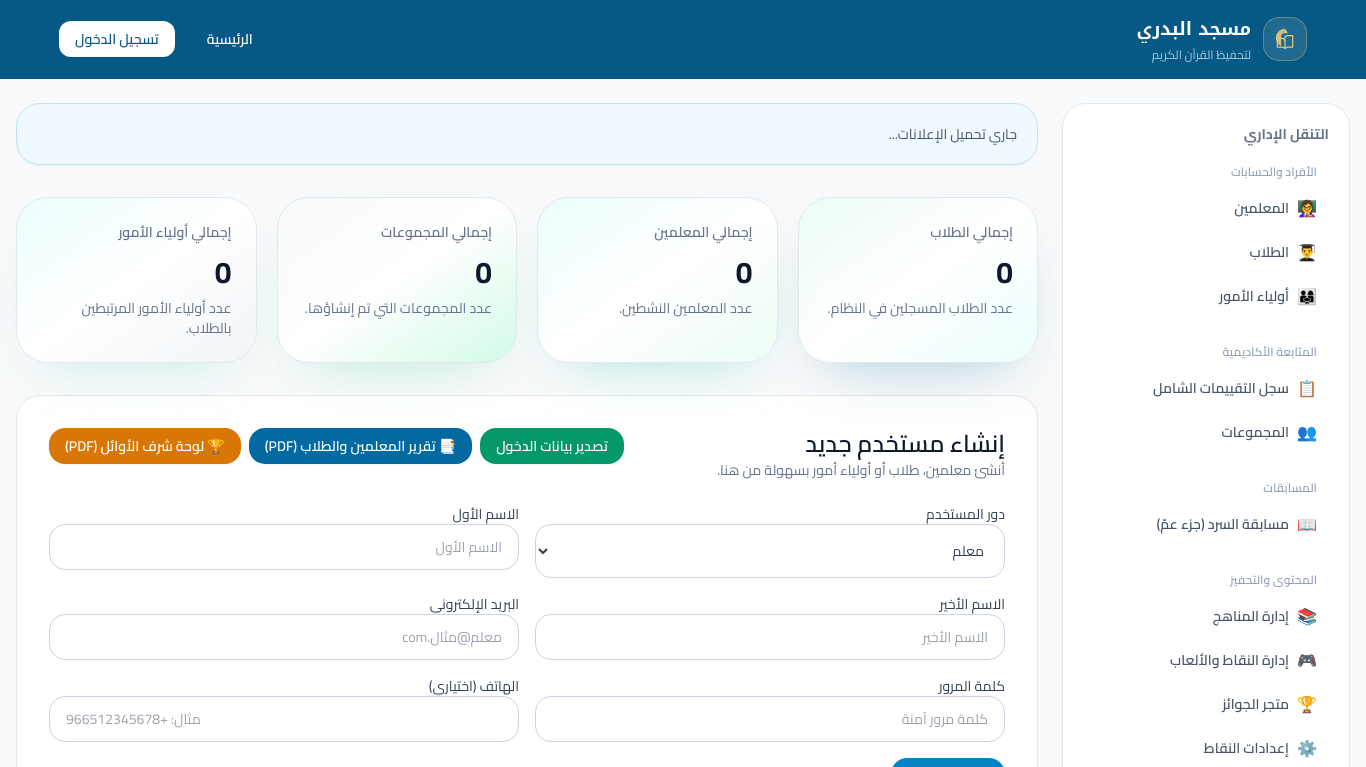
Test: searches reception contestants instantly and assigns a teacher in one selection
Click the button "📖 مسابقة السرد (جزء عمّ)". click: (1206,524)
box: [1083,504,1329,544]
(page scrolled)
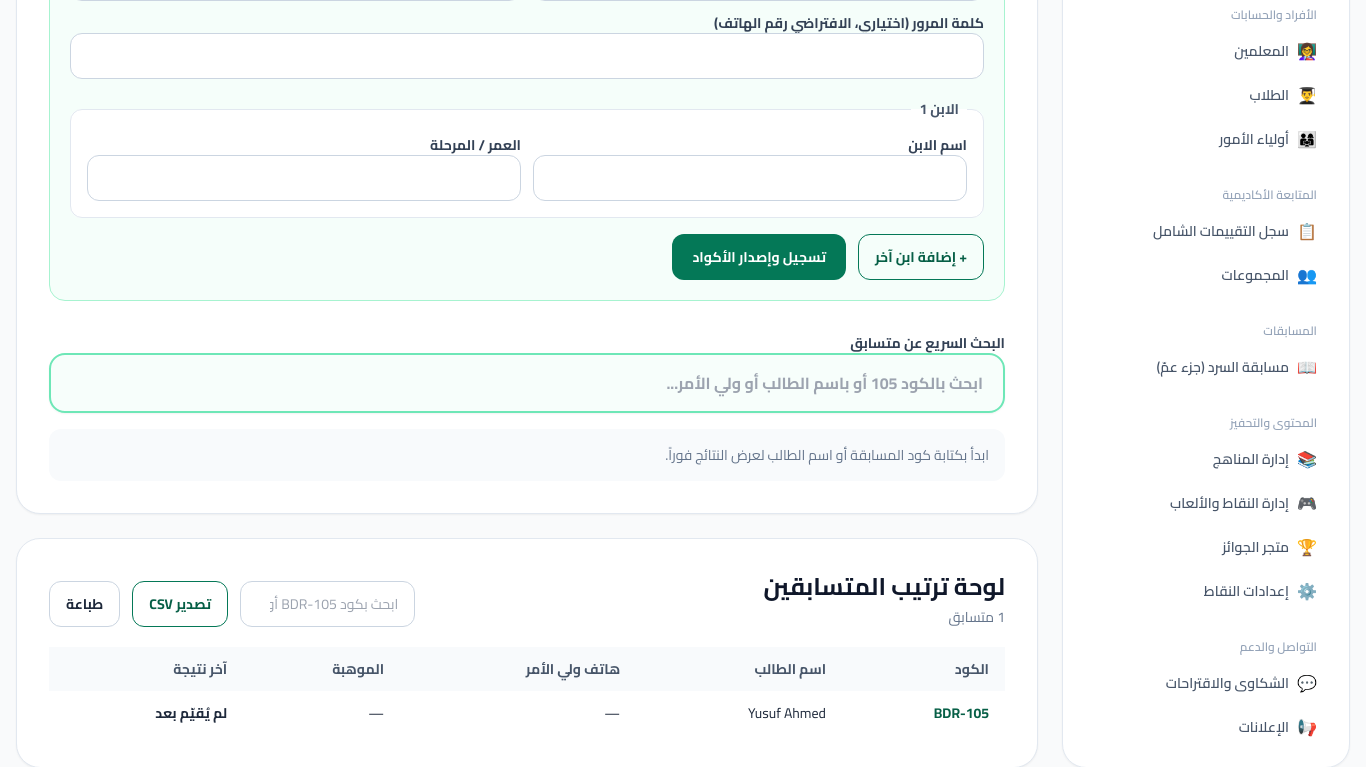
Type "105" into the search field with placeholder "ابحث بالكود 105 أو باسم الطالب أو ولي الأمر...". click: (527,383)
box: [49,353,1005,413]
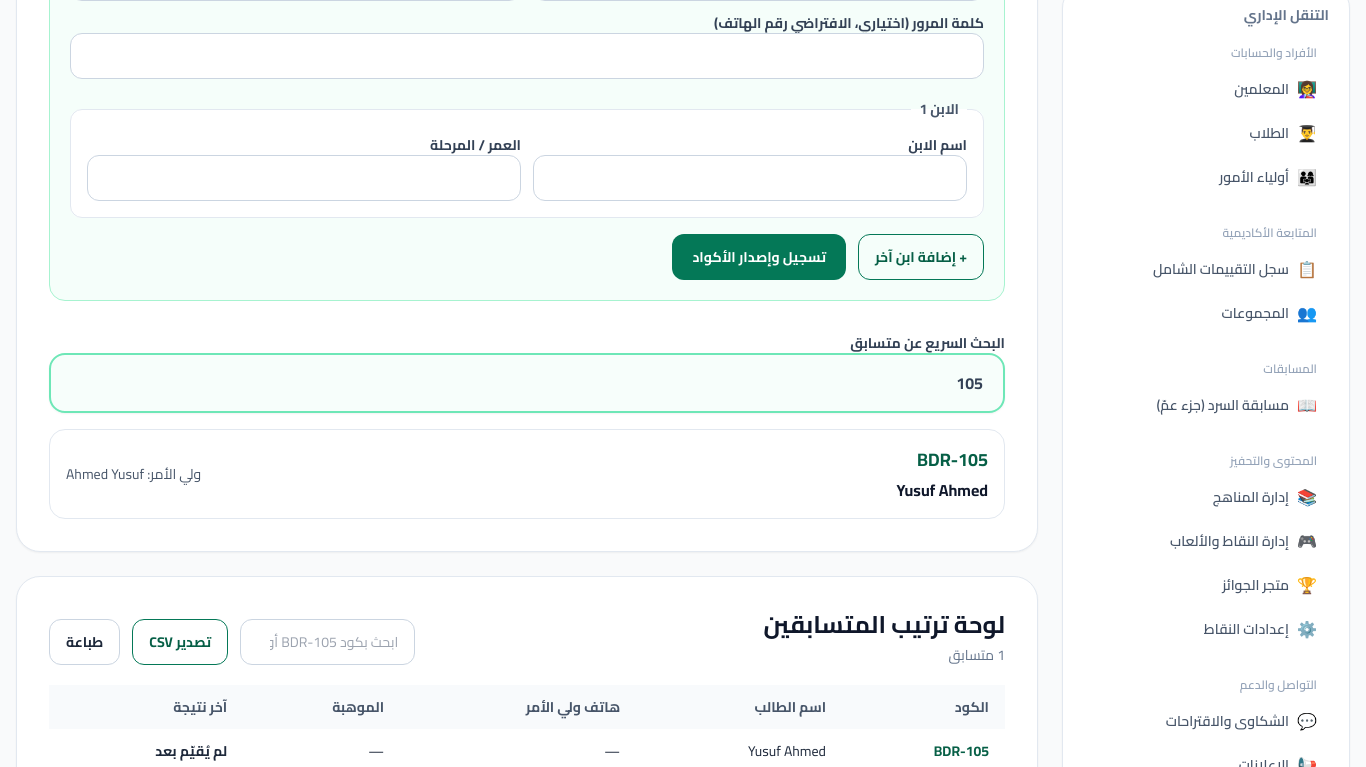
Expected: the element showing "BDR-105 Yusuf Ahmed ولي الأمر: Ahmed Yusuf" is shown, [49,429,1005,519]
Expected: the text "BDR-105" is shown, [917,443,988,476]
Expected: the text "ولي الأمر: Ahmed Yusuf" is shown, [66,464,201,484]
